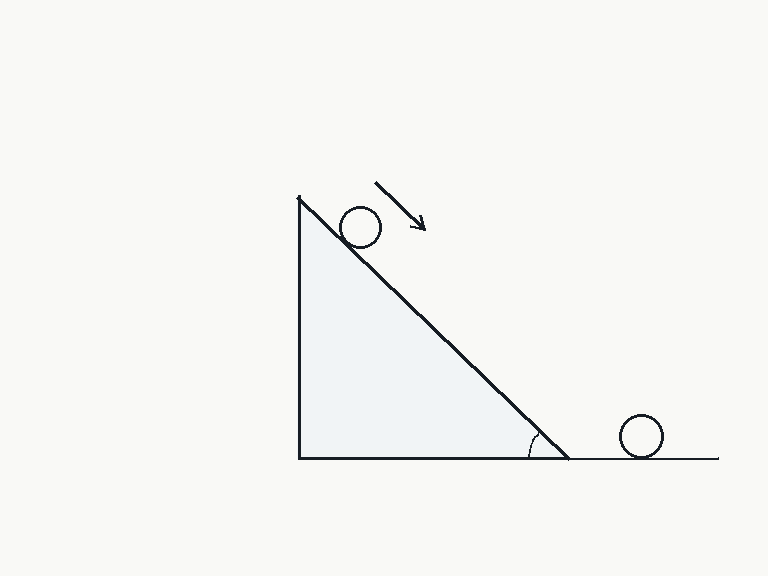ball: (617, 412, 665, 460), (337, 204, 383, 250)
ramp: (296, 194, 571, 460)
